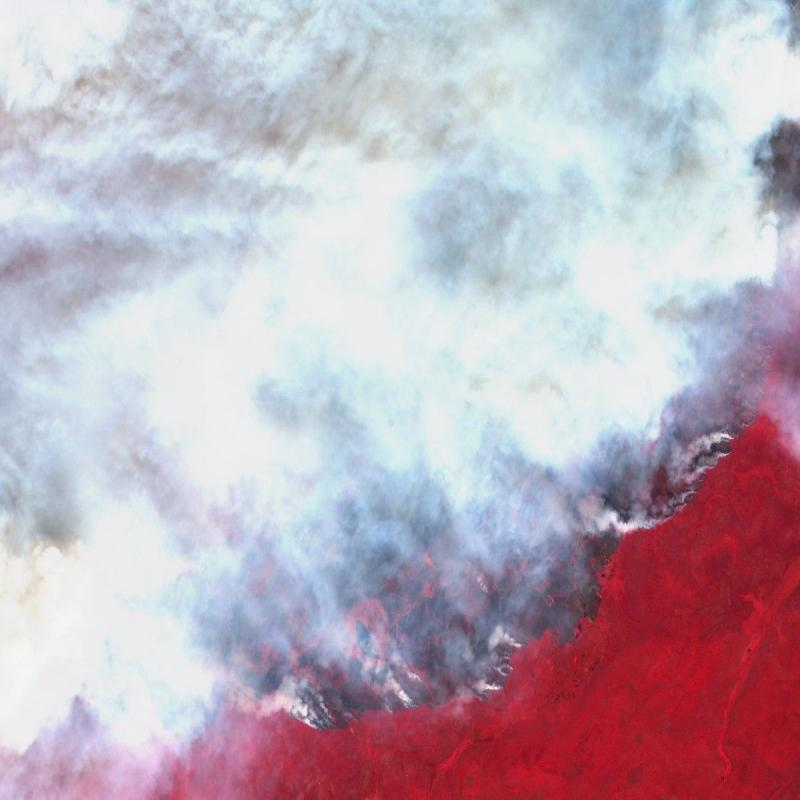fire: (0, 139, 800, 800)
